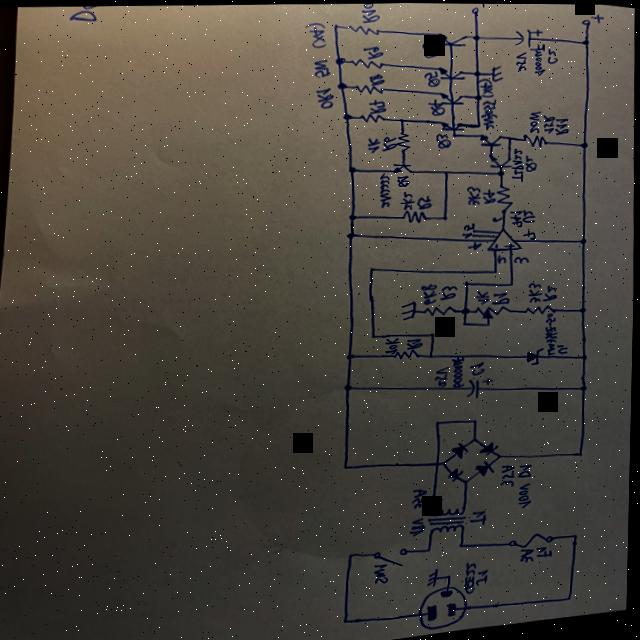capacitor: (465, 375, 498, 398), (513, 25, 543, 48)
crossover: (436, 460, 442, 466)
diode: (526, 345, 547, 364), (476, 458, 497, 474), (453, 441, 471, 457), (481, 440, 499, 454), (450, 467, 466, 479)
ground: (401, 300, 420, 320), (428, 567, 443, 585), (490, 63, 504, 80)
junction: (346, 350, 356, 360), (335, 55, 346, 64), (337, 80, 347, 89), (343, 111, 353, 119), (345, 382, 355, 390), (464, 277, 474, 285), (581, 36, 591, 44), (343, 616, 353, 624), (348, 165, 358, 173), (462, 305, 472, 313), (581, 140, 591, 148), (580, 383, 590, 390), (579, 236, 588, 243), (349, 212, 358, 219), (581, 352, 590, 359), (429, 330, 438, 337), (347, 231, 357, 237), (497, 168, 507, 174), (573, 531, 581, 538), (509, 279, 517, 286), (398, 116, 407, 122), (435, 419, 444, 425), (349, 551, 358, 557), (460, 541, 468, 547), (344, 462, 352, 468), (473, 416, 481, 422), (568, 593, 576, 599), (447, 572, 455, 578), (579, 449, 587, 455), (443, 168, 451, 174), (428, 352, 436, 358), (462, 319, 470, 325), (369, 265, 377, 271), (486, 320, 493, 326), (475, 93, 482, 99), (580, 306, 588, 311), (473, 435, 479, 441), (474, 32, 480, 38), (493, 268, 499, 274), (442, 214, 449, 219), (428, 546, 435, 551), (453, 131, 460, 136), (333, 22, 339, 27), (508, 134, 514, 139), (443, 459, 449, 463), (474, 70, 480, 74), (371, 332, 377, 336), (467, 479, 471, 483), (500, 452, 504, 456), (478, 122, 482, 126)
resistor: (474, 303, 514, 318), (497, 183, 514, 211), (424, 302, 457, 316), (525, 301, 557, 314), (350, 56, 384, 68), (349, 22, 382, 34), (524, 132, 550, 147), (404, 208, 429, 222), (356, 83, 385, 93), (397, 130, 411, 150), (360, 112, 387, 122), (396, 348, 420, 358)
switch: (374, 546, 412, 567)
terminal: (582, 17, 593, 25), (471, 4, 479, 12), (471, 231, 477, 235), (473, 227, 477, 231)
text: (480, 78, 499, 128), (528, 41, 548, 76), (544, 312, 560, 354), (305, 21, 328, 47), (377, 172, 394, 206), (451, 355, 469, 387), (510, 146, 526, 180), (517, 480, 536, 507), (501, 461, 521, 486), (314, 86, 336, 108), (465, 561, 480, 592), (527, 108, 543, 133), (374, 561, 393, 582), (422, 281, 440, 303), (360, 2, 380, 21), (312, 57, 332, 76), (399, 190, 417, 210), (436, 364, 452, 386), (413, 487, 430, 507), (541, 112, 558, 132), (518, 460, 536, 478), (416, 192, 435, 209), (386, 335, 403, 353), (412, 516, 428, 535), (467, 184, 482, 204), (529, 281, 544, 301), (435, 131, 453, 147), (440, 283, 458, 299), (422, 41, 440, 57), (363, 45, 385, 58), (555, 115, 571, 132), (472, 508, 490, 523), (369, 97, 387, 112), (515, 50, 528, 70), (382, 134, 398, 150), (429, 99, 445, 115), (477, 567, 492, 584), (424, 70, 441, 85), (493, 290, 511, 304), (544, 284, 559, 300), (367, 136, 382, 152), (476, 288, 493, 302), (511, 209, 525, 226), (525, 153, 538, 171), (472, 360, 488, 374), (407, 336, 425, 348), (522, 546, 537, 560), (483, 187, 497, 202), (397, 173, 411, 187), (539, 544, 555, 556), (547, 47, 559, 63), (369, 72, 385, 84), (467, 239, 484, 249), (524, 209, 536, 221), (559, 341, 572, 352), (515, 255, 531, 263), (524, 228, 538, 237), (592, 11, 604, 20), (498, 253, 509, 262), (464, 221, 476, 229), (492, 213, 504, 221), (504, 241, 516, 247), (462, 231, 474, 236), (480, 3, 486, 7), (495, 242, 499, 246)
transformer: (430, 505, 471, 535)
transistor: (432, 29, 469, 48), (437, 64, 466, 81), (439, 89, 468, 106), (488, 152, 512, 167), (479, 132, 503, 145), (440, 119, 466, 129), (393, 161, 413, 173)
